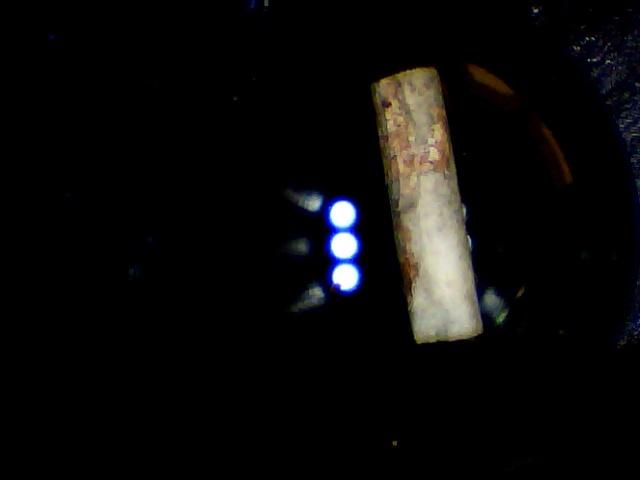megot: (349, 48, 500, 361)
